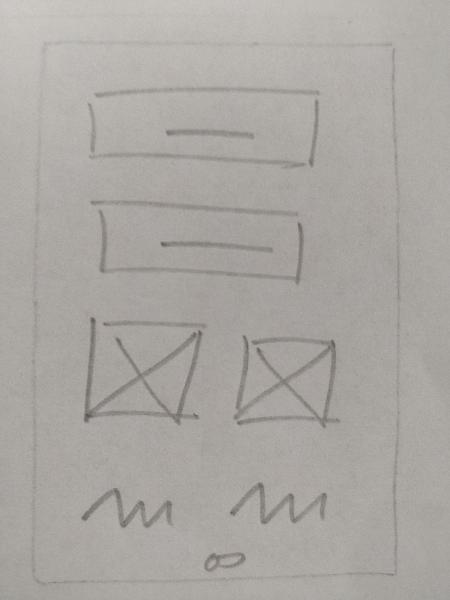button: (79, 80, 332, 175), (81, 191, 316, 289)
image: (75, 310, 208, 430), (229, 323, 352, 438)
switch: (191, 546, 258, 576)
text: (222, 469, 338, 534), (72, 480, 187, 537)
